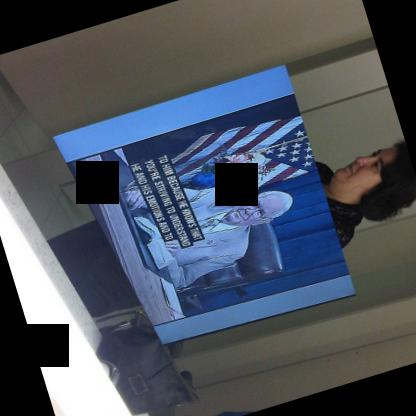handbag: (94, 306, 199, 416)
